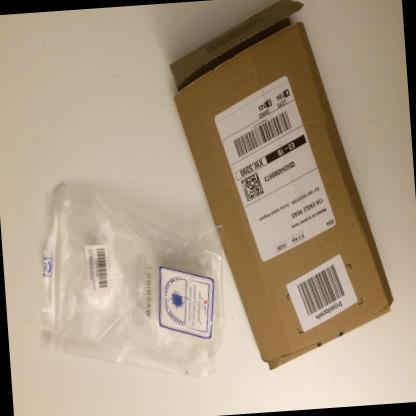Paper: (170, 0, 394, 370)
Plastic: (39, 184, 225, 377)
